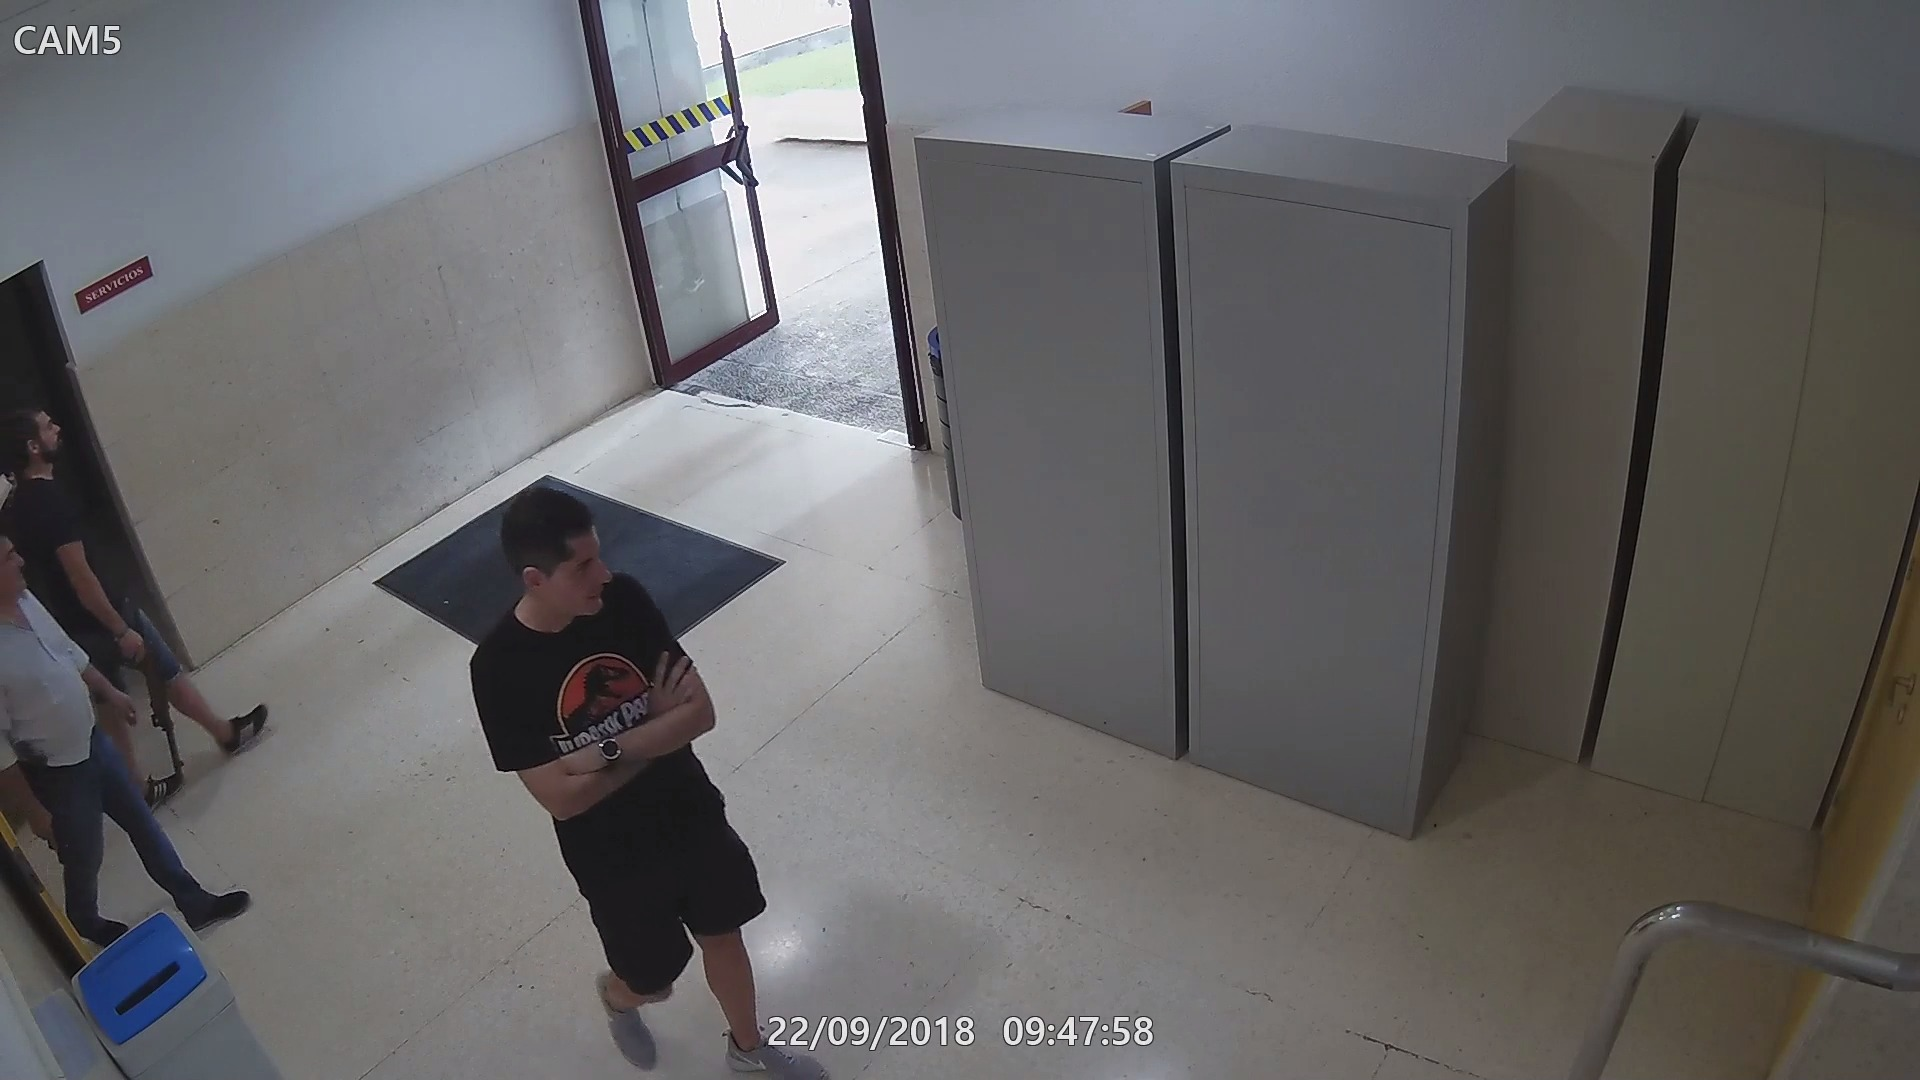Short_rifle: (112, 607, 187, 775)
